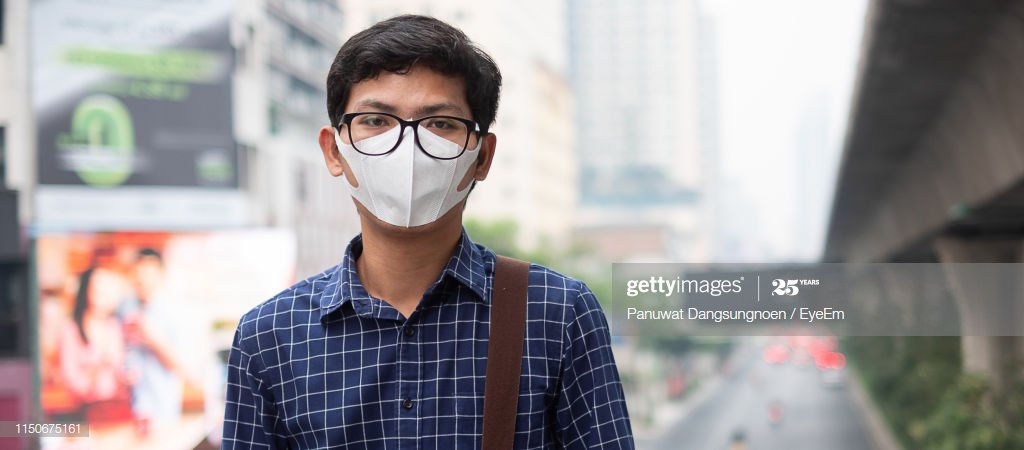mask: (316, 19, 521, 228)
